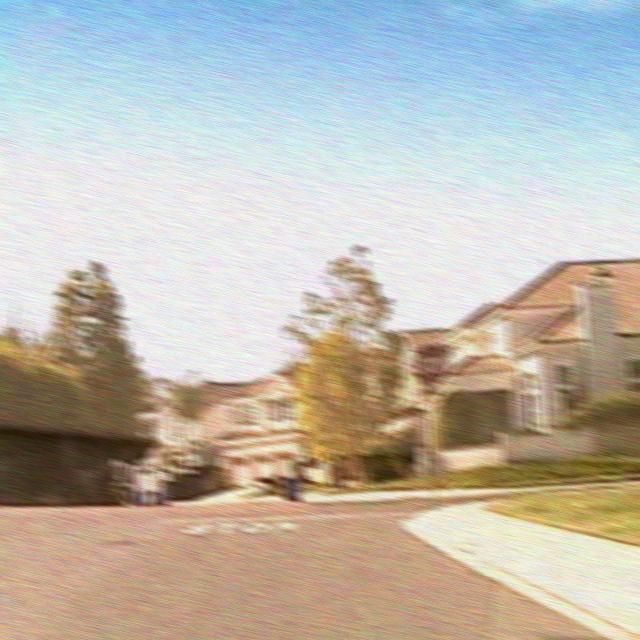stop: (413, 342, 449, 387)
